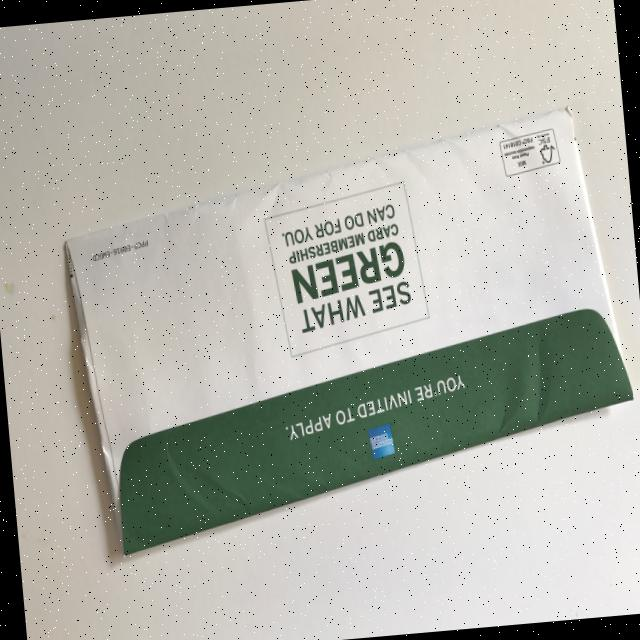paper: (55, 101, 640, 558)
